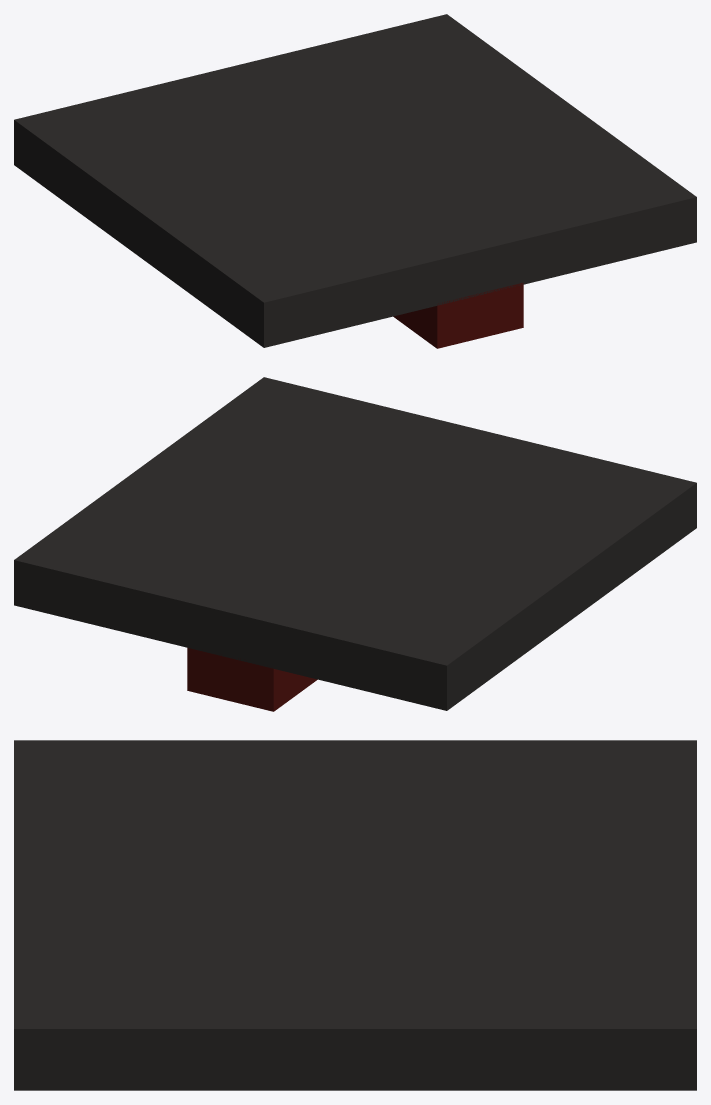
File: Roofflat.fbx
3 views of the same model, one above another, from view 1: azimuth 30°, elevation 25°; view 2: azimuth 150°, elevation 25°; view 3: azimuth 270°, elevation 25° (orthographic). The views are drawn at different scales.
Parts seen in each view (by area): view 1: Roof; view 2: Roof; view 3: Roof.
Boxes of the visible parts, x1,y1,x2,y2 form: Roof: [14, 14, 696, 348]; Roof: [14, 377, 696, 711]; Roof: [14, 740, 696, 1090].
Bounding box in the file's own units: 200 × 39.02 × 200.
